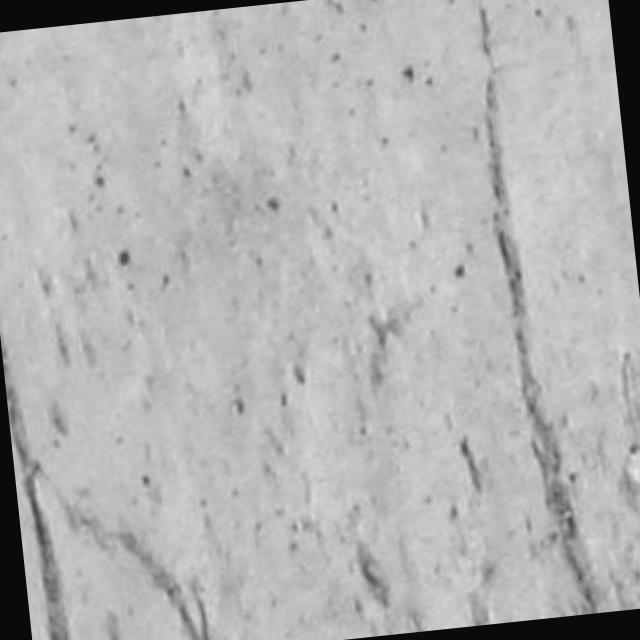crack: (478, 0, 597, 613), (0, 331, 69, 639), (62, 500, 210, 639), (356, 543, 389, 608), (460, 438, 481, 493)
